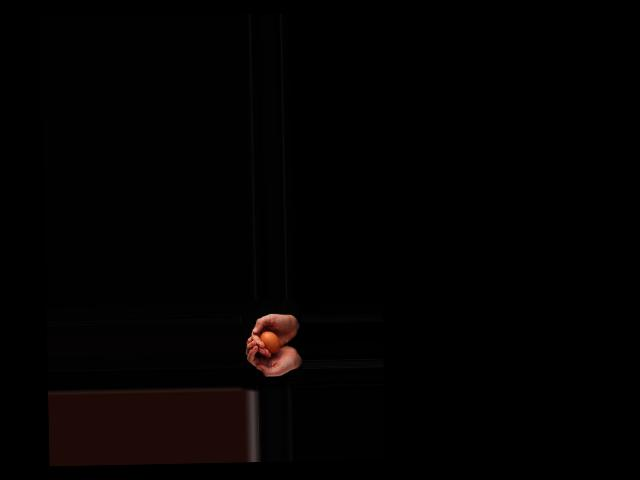egg: (260, 331, 280, 355)
